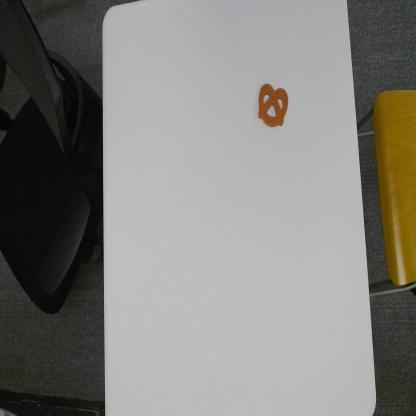Pretzel: (256, 75, 290, 129)
